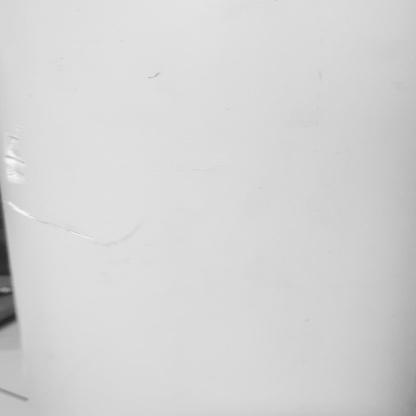sunshang: (4, 133, 51, 226)
